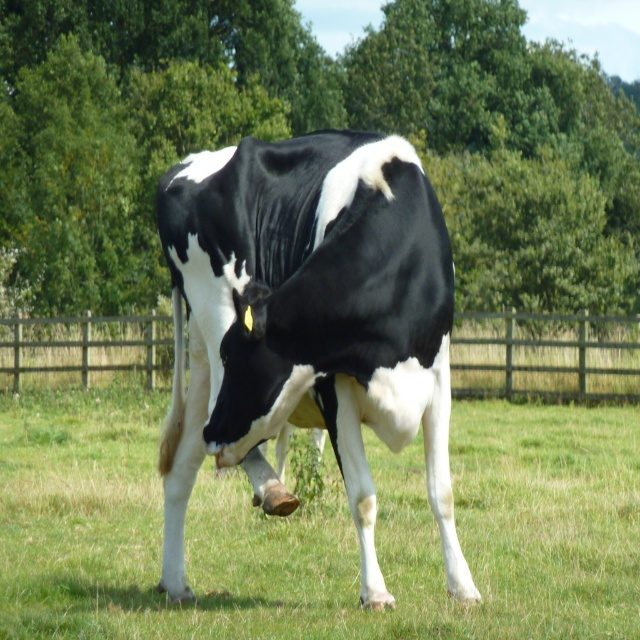Cattle: (157, 129, 484, 612)
